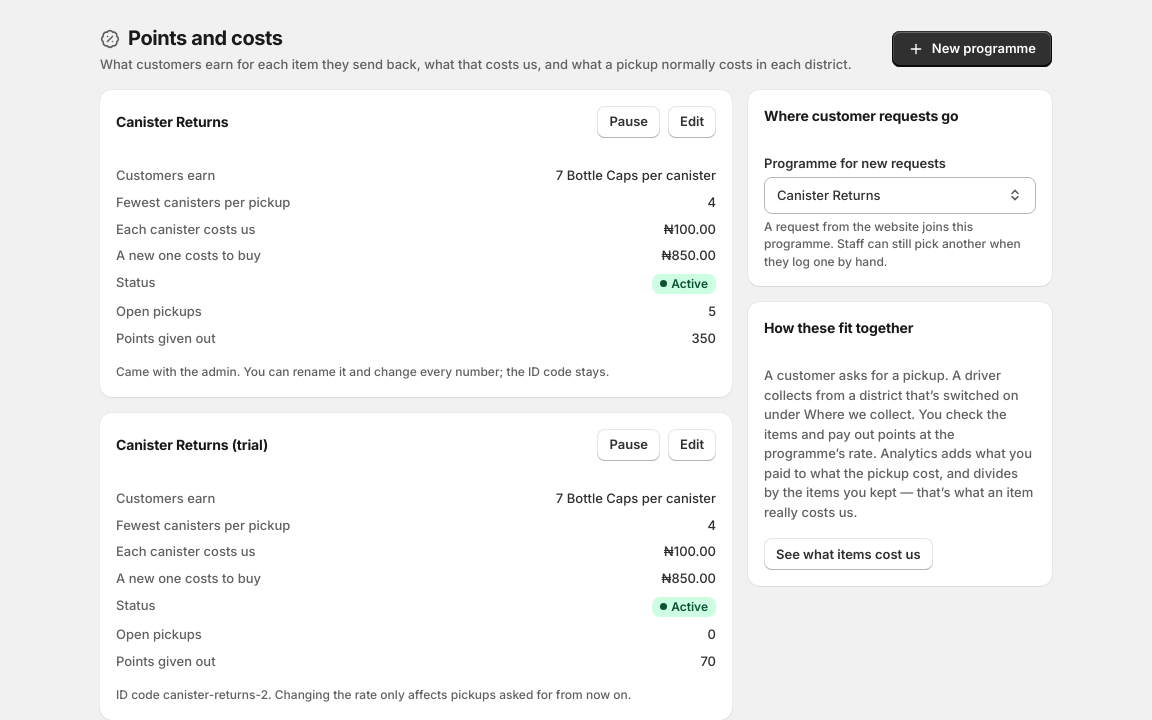
Test: points and costs › lists only programmes that pay per item, in their own words, and edits one without ever sending key or kind
Expected: the heading "Canister Returns" is shown, [116, 112, 228, 132]
Expected: the heading "Canister Returns (trial)" is shown, [116, 435, 268, 455]
Click the button with aria-label "Edit Canister Returns" at (692,122), box [668, 106, 716, 138]
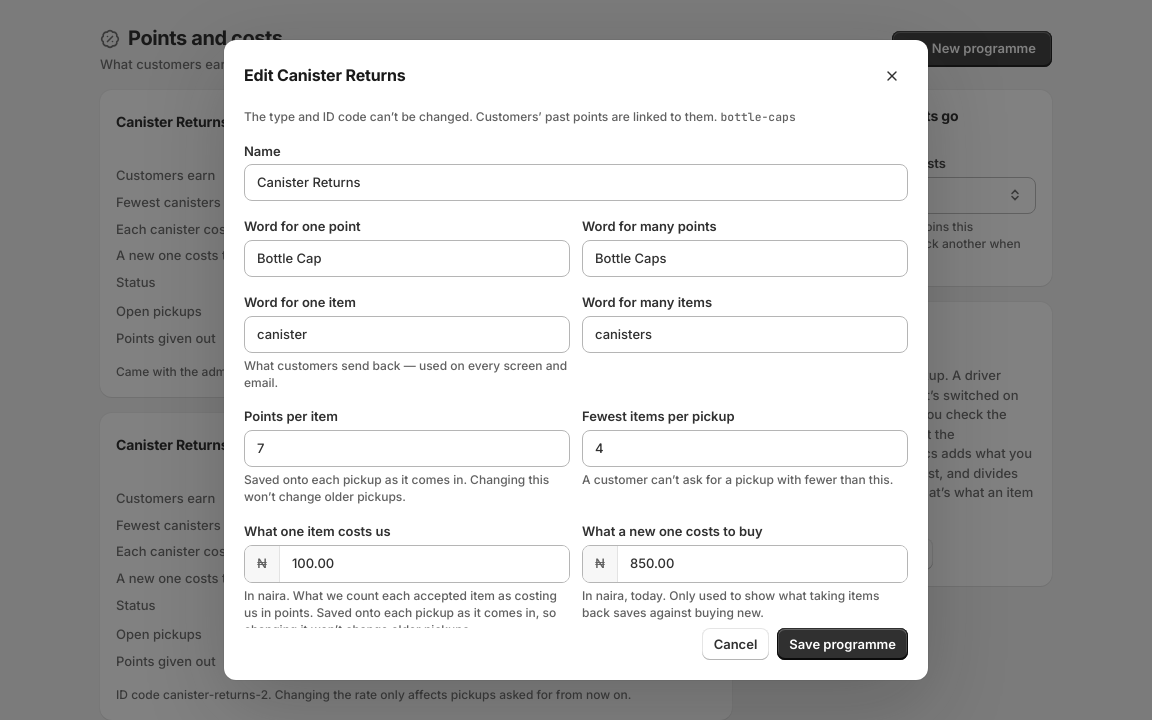
Now the text "bottle-caps" is shown, box [720, 109, 796, 124]
Now the text "The type and ID code can’t be changed" is shown, box [244, 109, 717, 124]
Replace the text in the field labelled "Name" with "Deposit Scheme" at (576,183), box [244, 164, 908, 201]
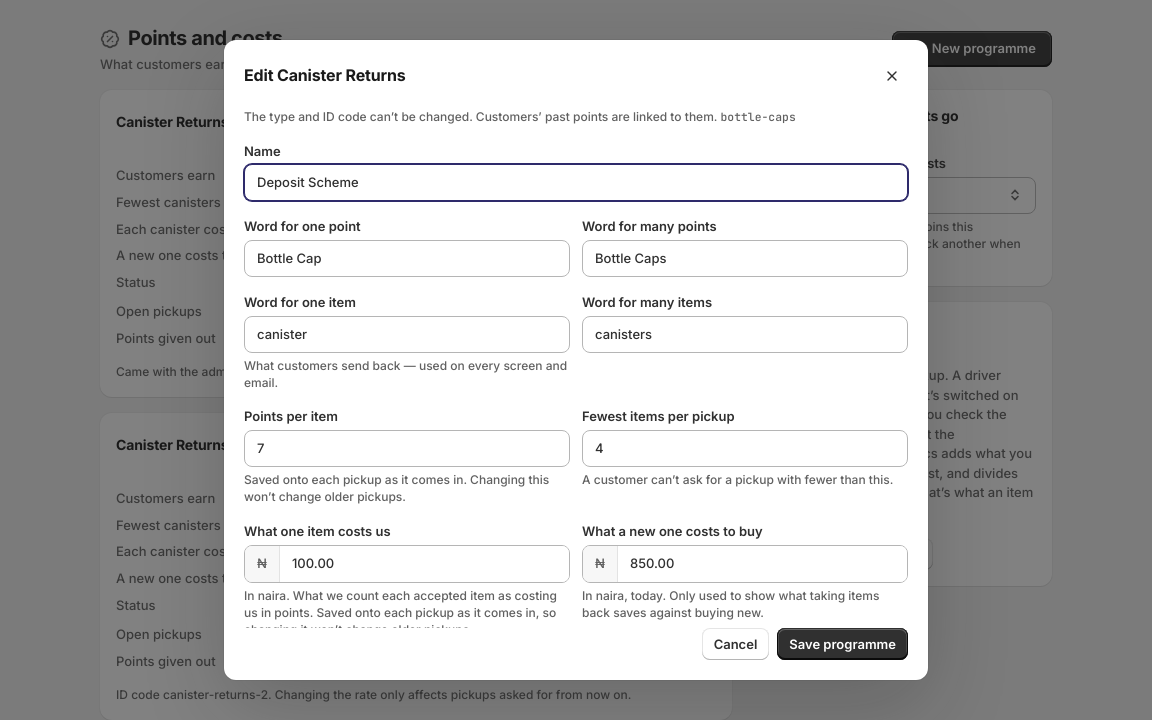
Click the button "Save programme" at (843,644), box [777, 628, 908, 660]
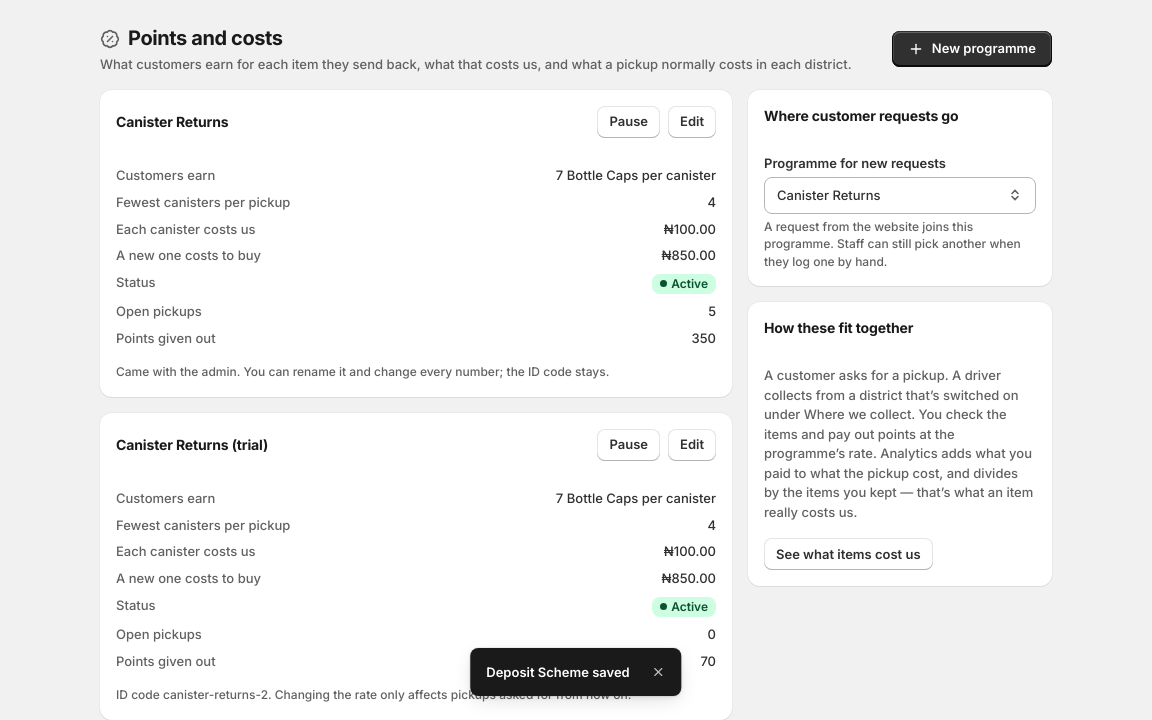
Now the text "Deposit Scheme saved" is shown, box [486, 663, 630, 681]
